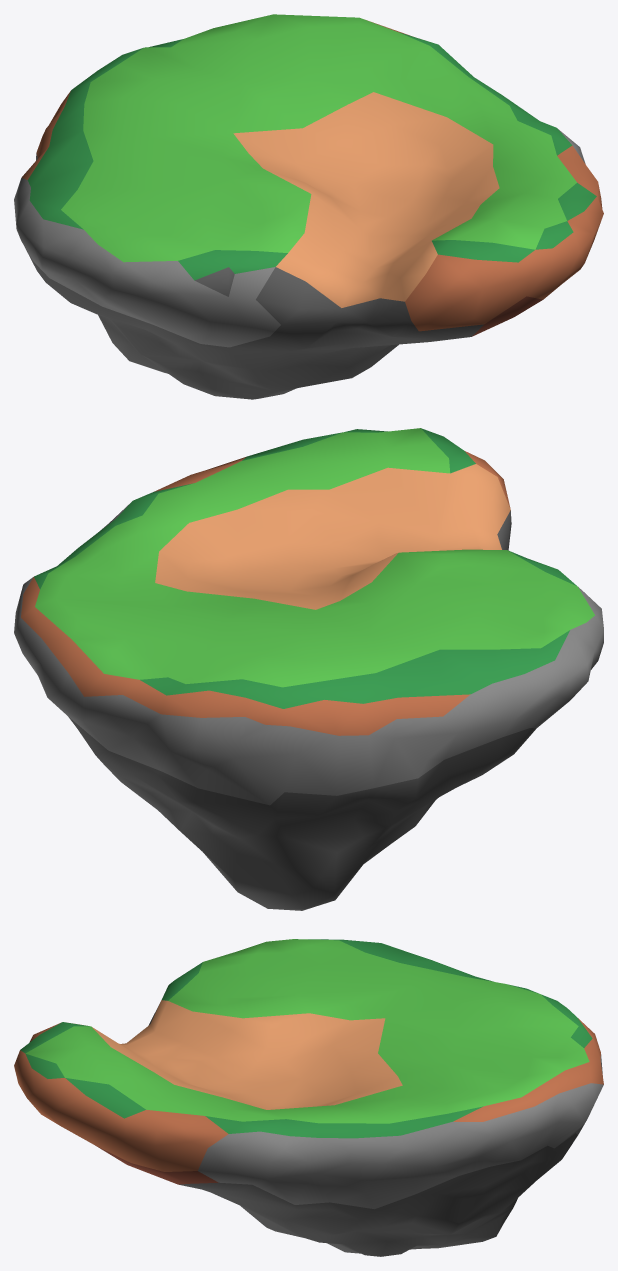
File: Platform4.glb
3 renders of one model, top to bottom at view 1: azimuth 30°, elevation 25°; view 2: azimuth 150°, elevation 25°; view 3: azimuth 270°, elevation 25°, orthographic. The views are drawn at different scales.
Visible parts, largest first — view 1: Icosphere; view 2: Icosphere; view 3: Icosphere.
Boxes of the visible parts, box(x1,y1,x2,y2) form: Icosphere: box(14, 14, 603, 399); Icosphere: box(14, 428, 603, 910); Icosphere: box(14, 939, 603, 1256).
Bounding box in the file's own units: 38.61 × 20.45 × 44.53.
Materials: 1 (1 with a texture image).
